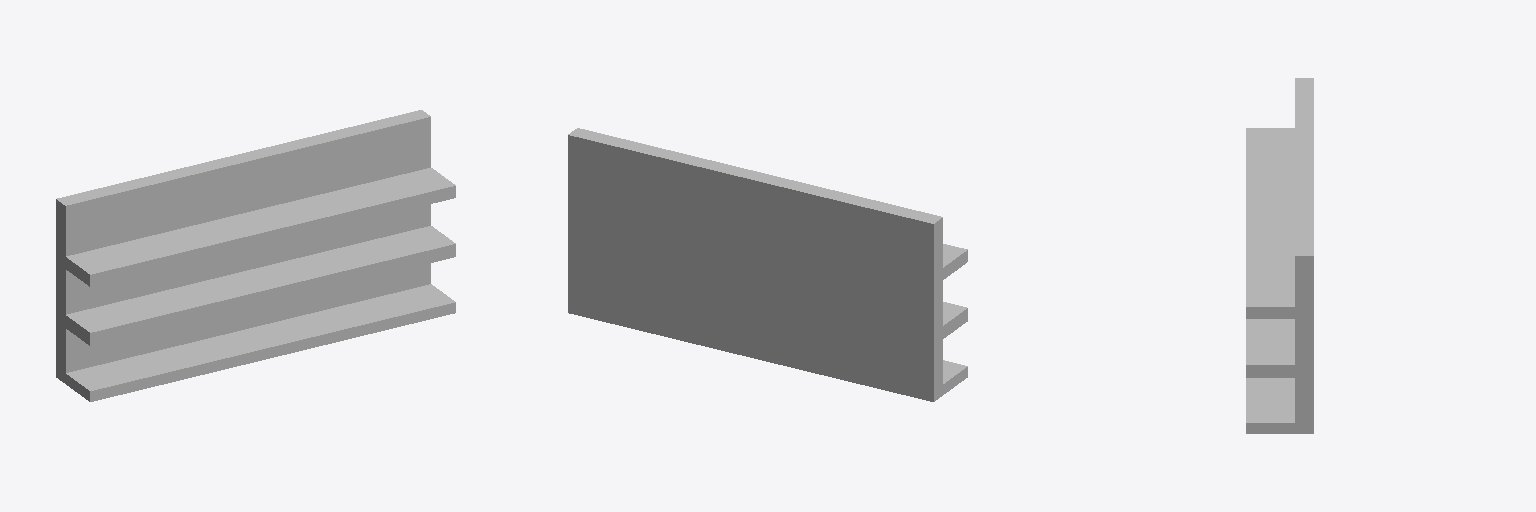
File: GasStationShelf.obj
3 renders of one model, left to right at view 1: azimuth 30°, elevation 25°; view 2: azimuth 150°, elevation 25°; view 3: azimuth 270°, elevation 25°, orthographic.
Parts seen in each view (by area): view 1: shelf1; view 2: shelf1; view 3: shelf1.
Boxes of the visible parts, <box> form: shelf1: <box>56,110,455,401</box>; shelf1: <box>568,128,967,401</box>; shelf1: <box>1246,78,1313,433</box>.
Bounding box in the file's own units: 5.31 × 2.47 × 0.868.